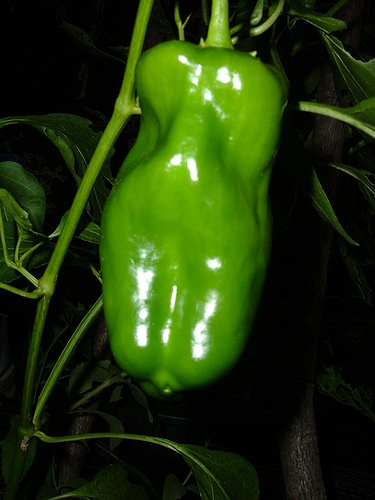capsicum: (97, 38, 288, 396)
